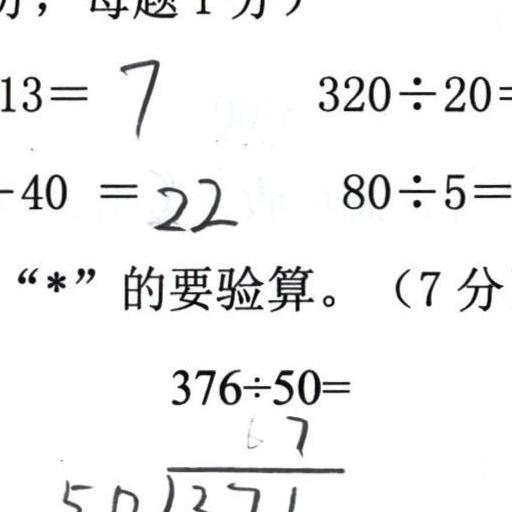ans: (147, 170, 237, 234), (114, 51, 162, 135)
